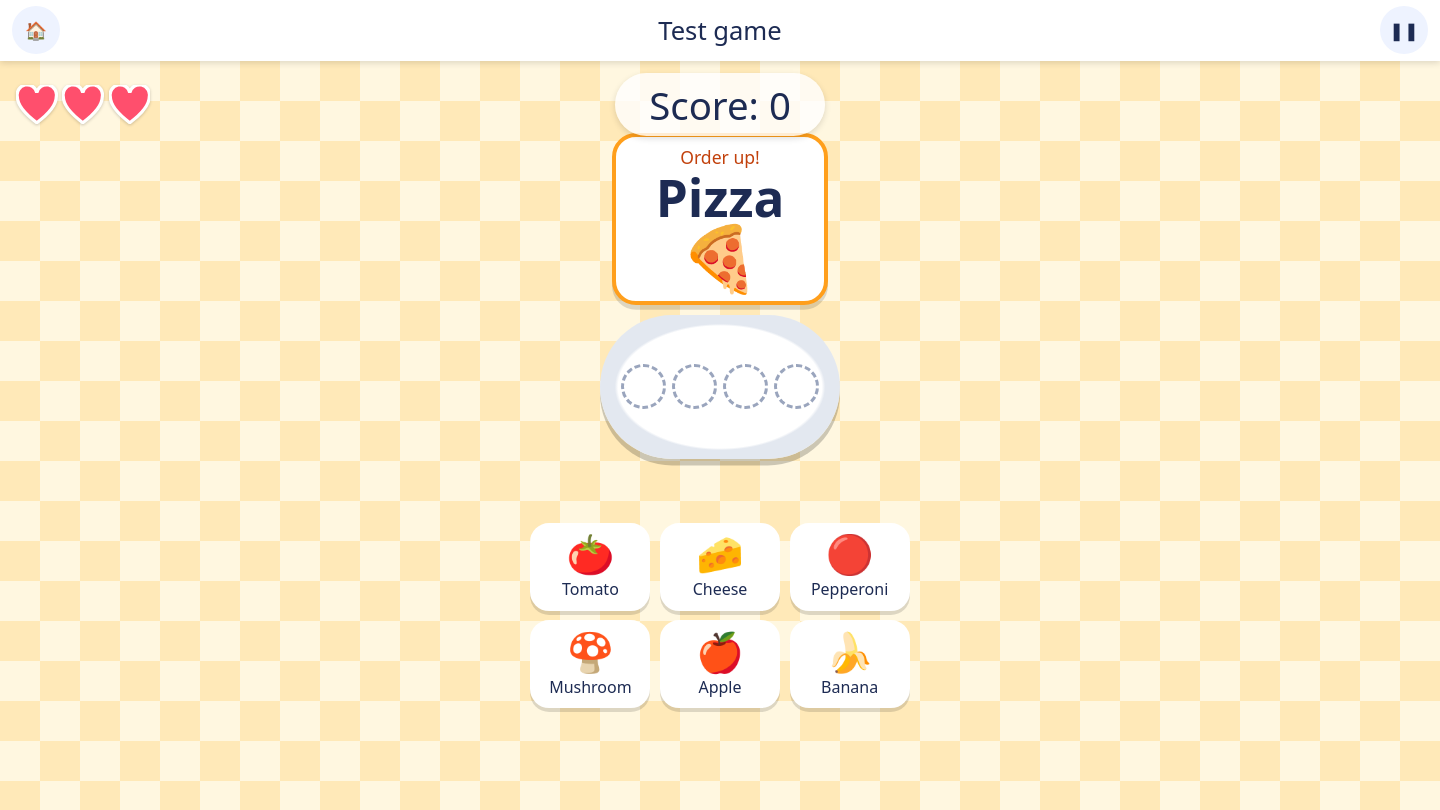
Test: KitchenScreen › scores a finished dish, praises the cook and moves on to the next order
The width and height of the screenshot is (1440, 810).
Step 1. Click the button "🍅 Tomato" → {"x": 590, "y": 567}, box [530,523,650,611]
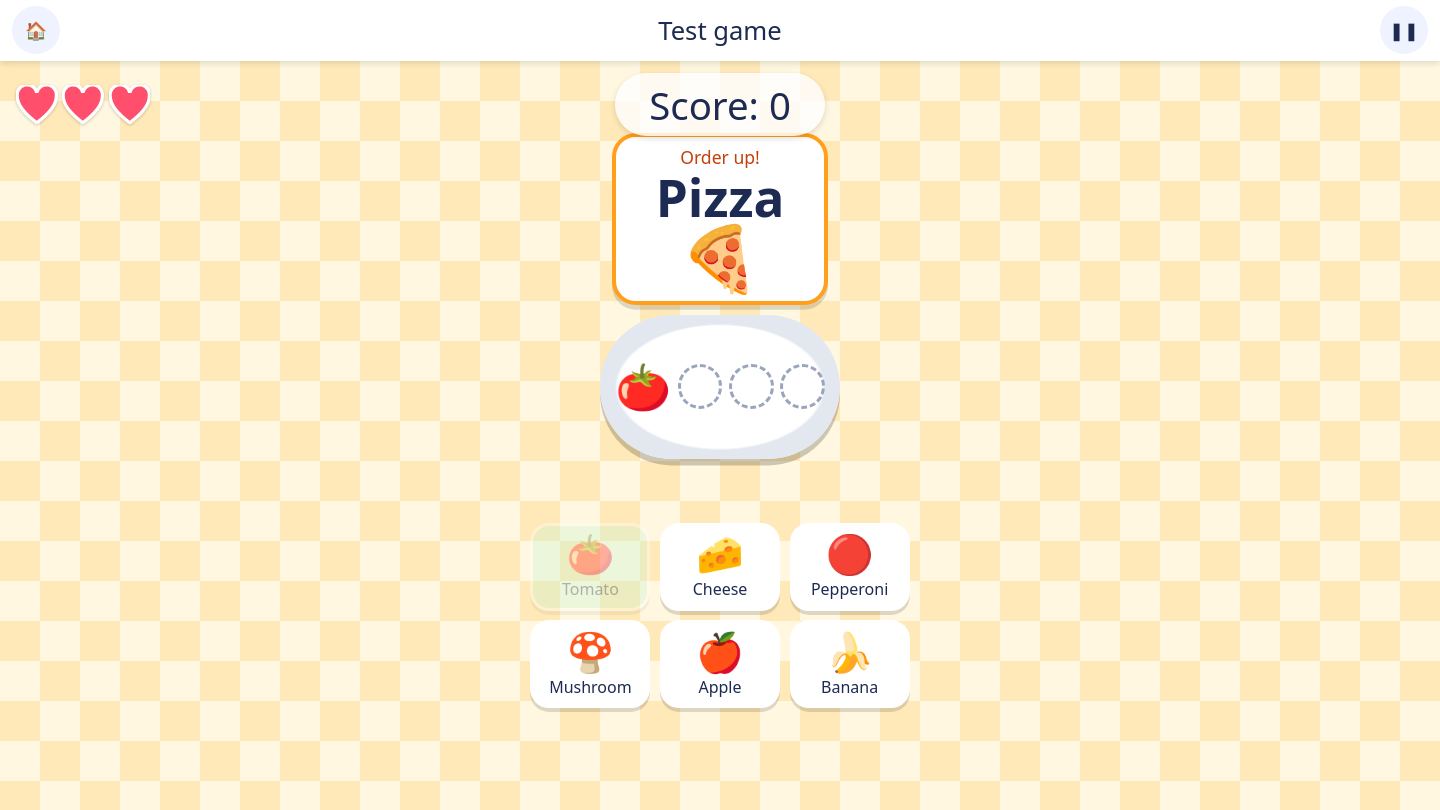
Step 2. Click the button "🧀 Cheese" → {"x": 720, "y": 567}, box [660,523,780,611]
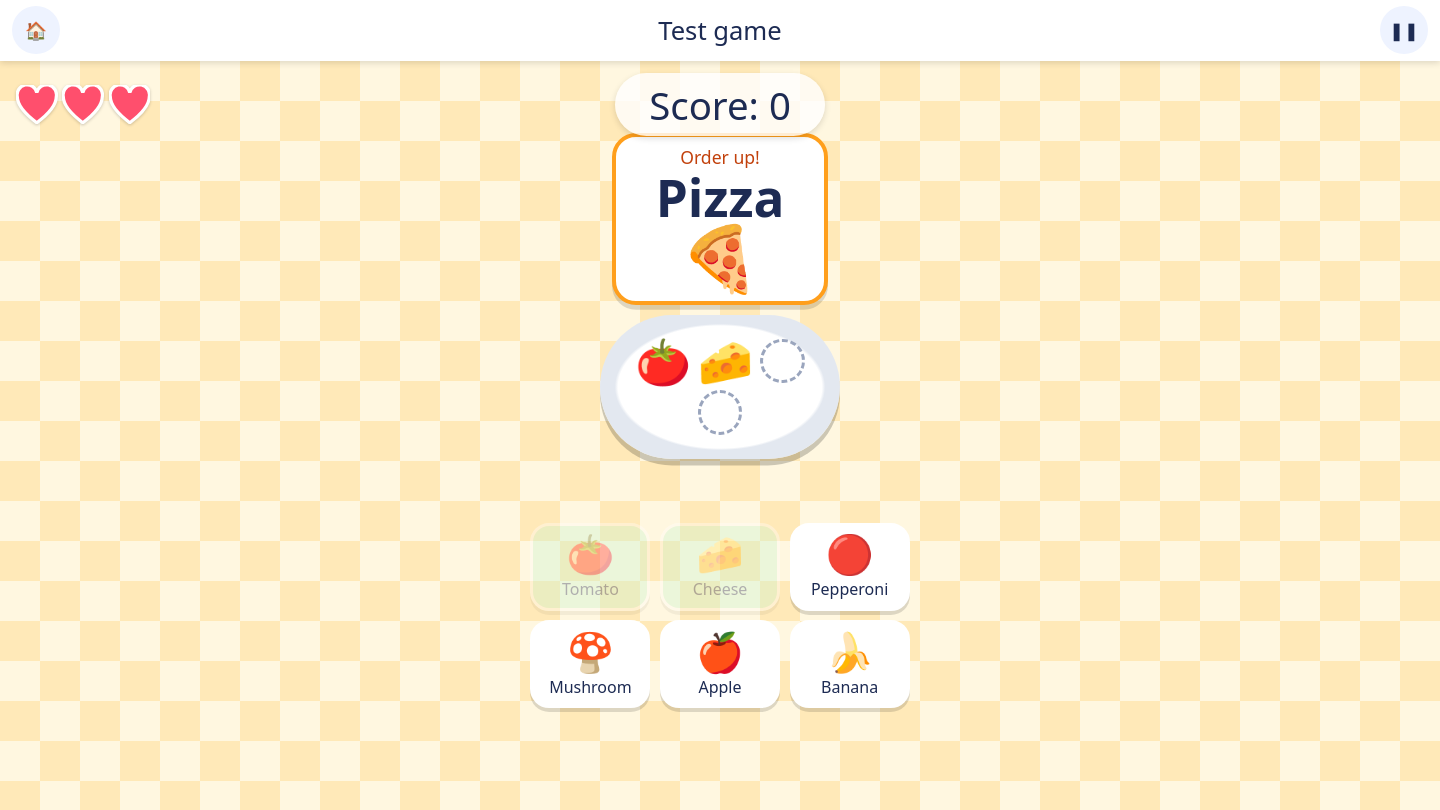
Step 3. Click the button "🔴 Pepperoni" → {"x": 850, "y": 567}, box [790,523,910,611]
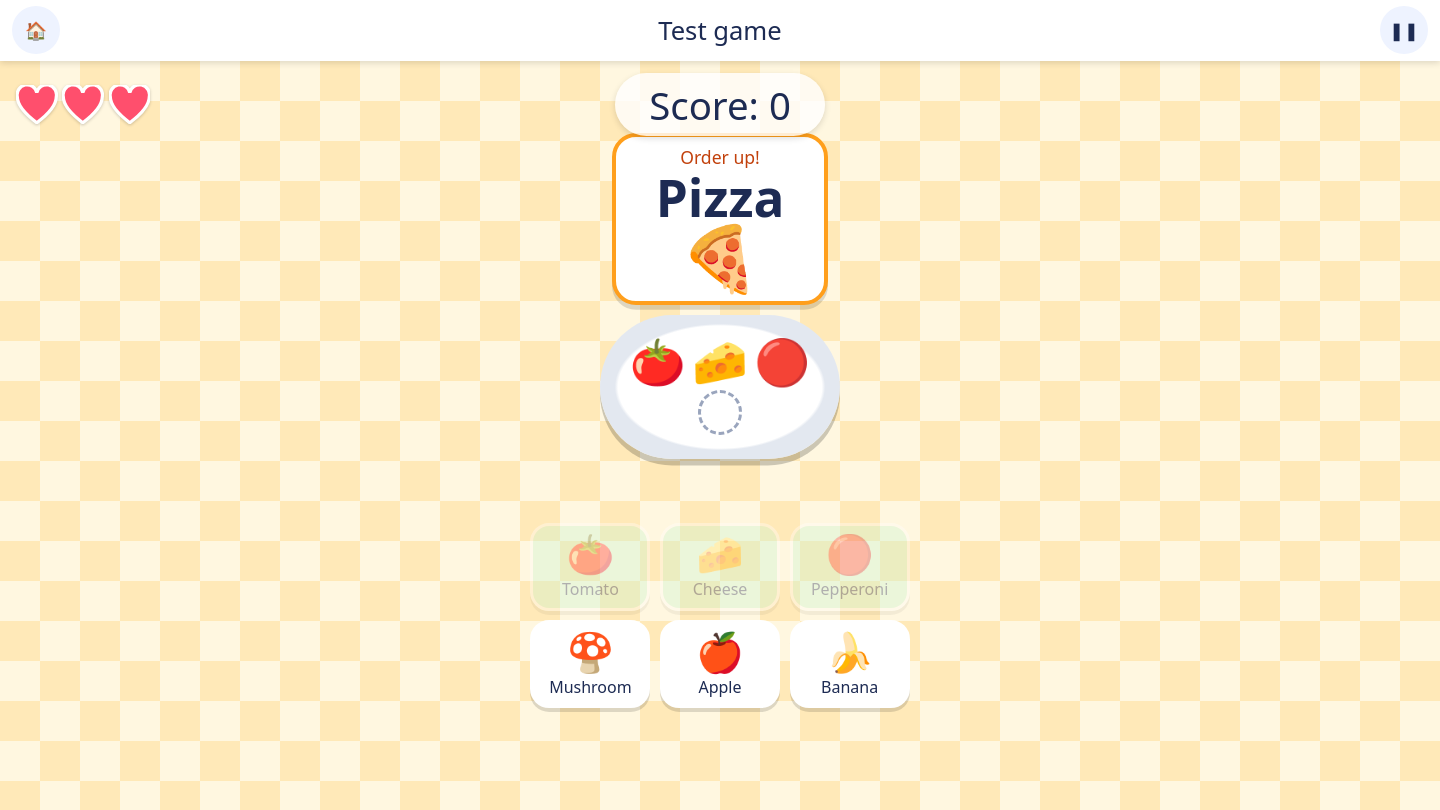
Step 4. Click the button "🍄 Mushroom" → {"x": 590, "y": 664}, box [530,620,650,708]
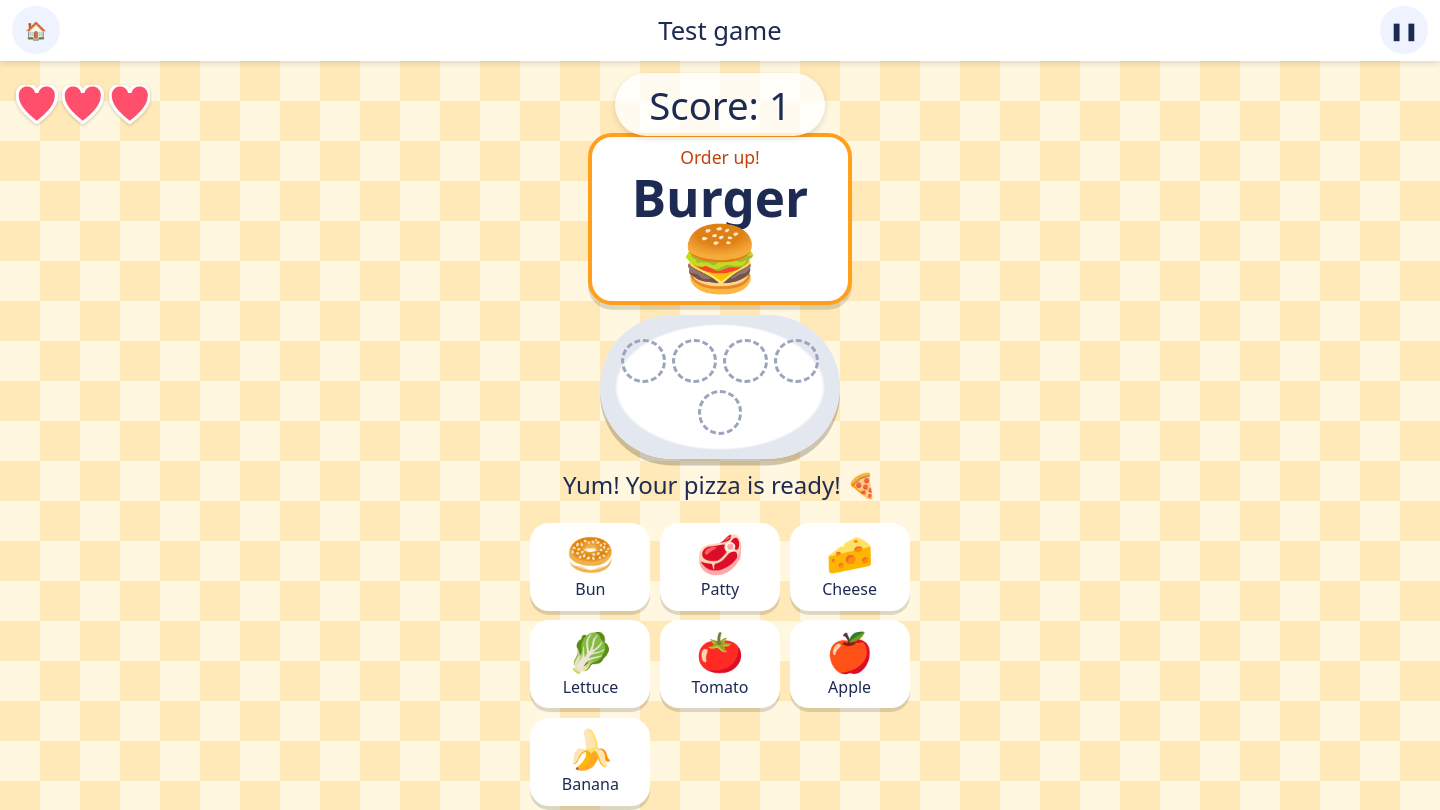
Check: the heading does not show "Pizza", box [632,169,808,225]
Check: the message "Score: 1" is shown, box [615,73,825,136]
Check: the message "Yum! Your pizza is ready! 🍕" is shown, box [563,468,877,513]
